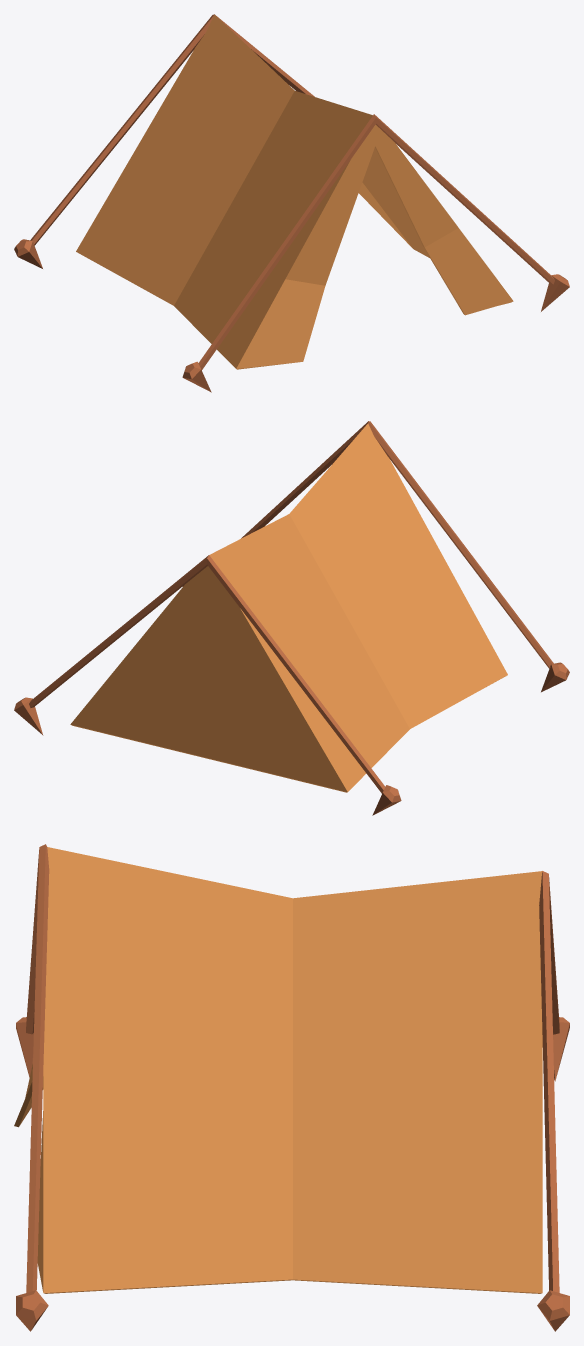
Rendered from orangetent.gltf.
3 renders of one model, top to bottom at view 1: azimuth 30°, elevation 25°; view 2: azimuth 150°, elevation 25°; view 3: azimuth 270°, elevation 25°, orthographic. The views are drawn at different scales.
Visible parts, largest first — view 1: Tent_Cube.001; view 2: Tent_Cube.001; view 3: Tent_Cube.001.
Boxes of the visible parts, x1=… form: Tent_Cube.001: x1=14, y1=14, x2=569, y2=392; Tent_Cube.001: x1=14, y1=421, x2=569, y2=815; Tent_Cube.001: x1=14, y1=844, x2=569, y2=1331.
Size of the model in its own units: 2.21 by 1.29 by 1.78.
